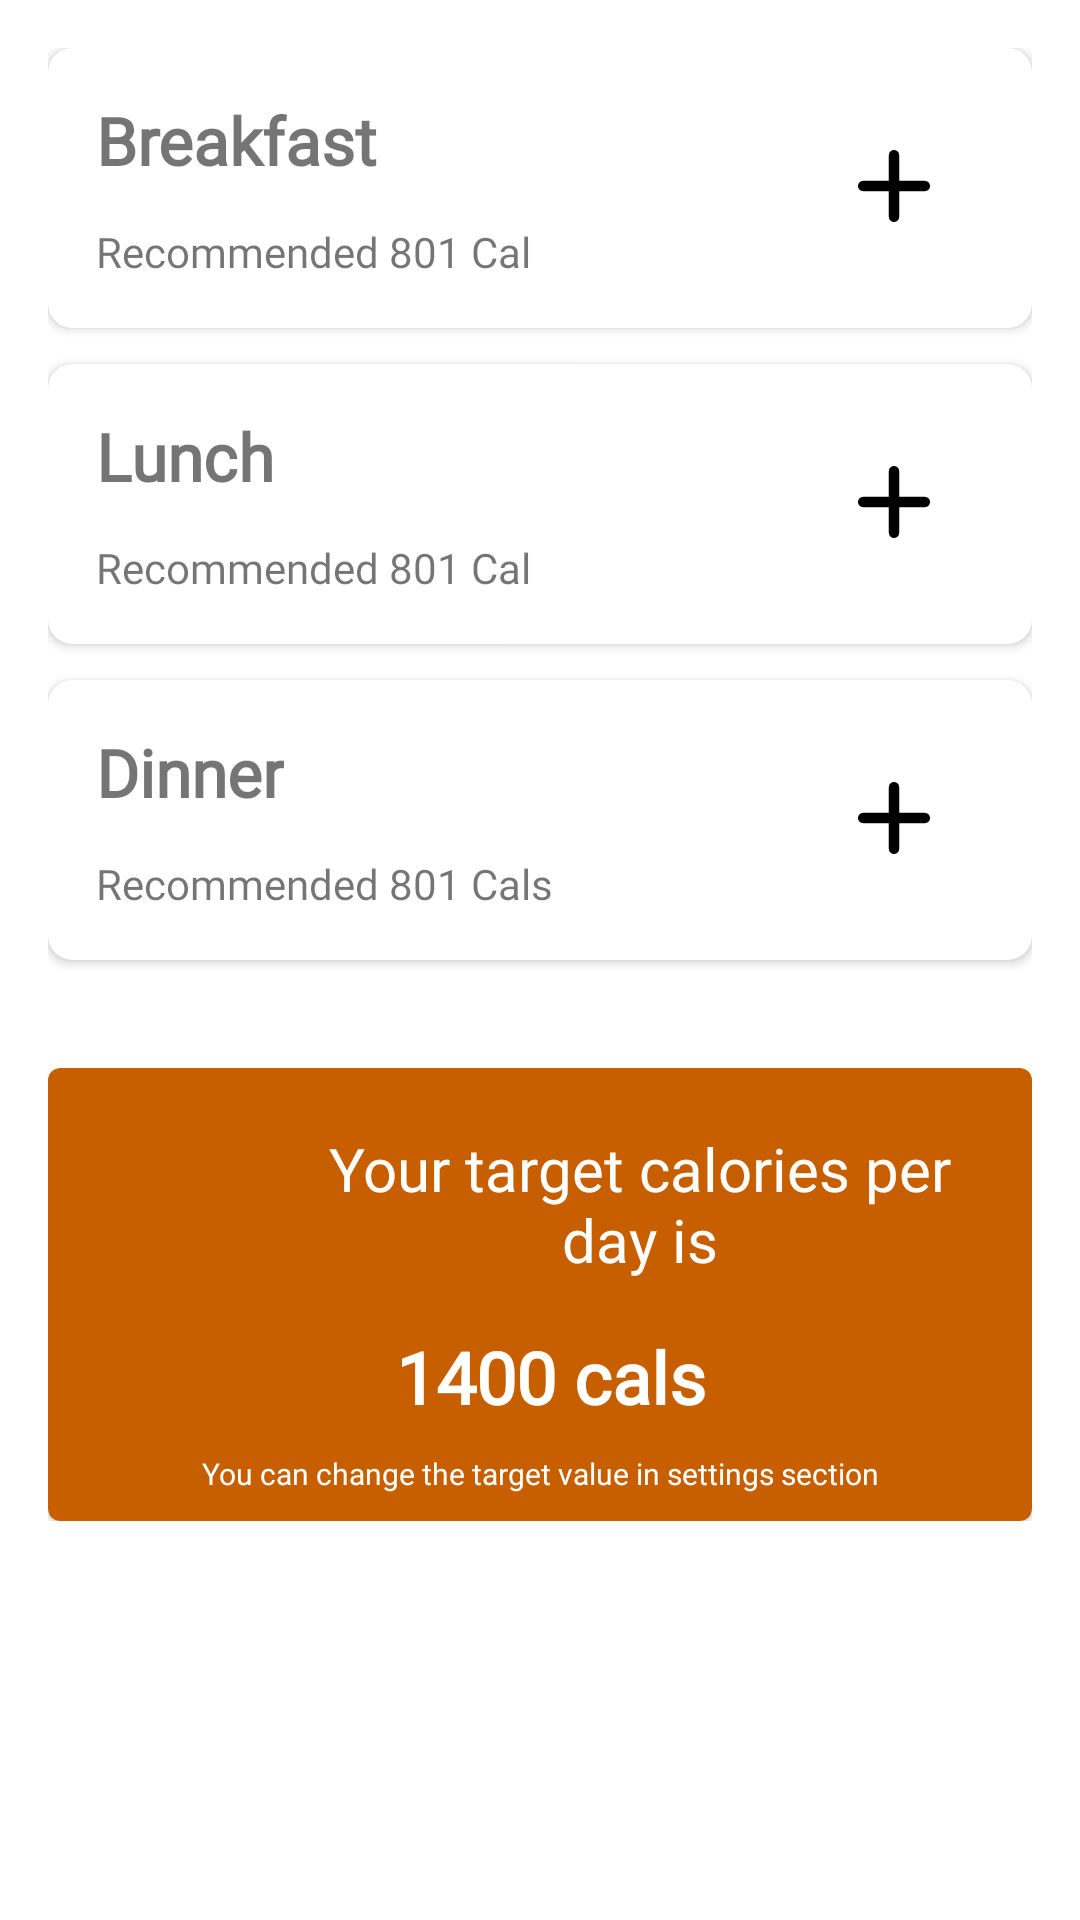

Named icons in this screenshot (1080×1920) and their bounding boxes, (x1, y1, x2, y2):
add: (858, 150, 930, 222), (858, 466, 930, 538), (858, 782, 930, 854)
